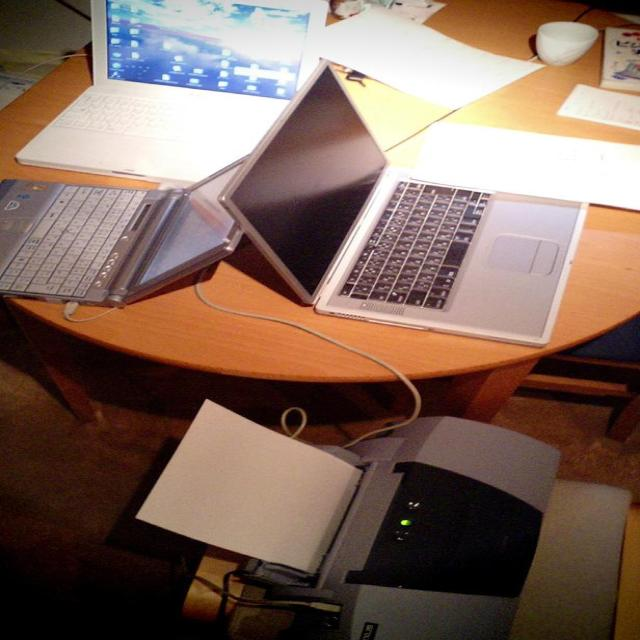glass: (538, 21, 598, 68)
laptop: (229, 67, 593, 347), (67, 0, 307, 173), (0, 160, 242, 305)
